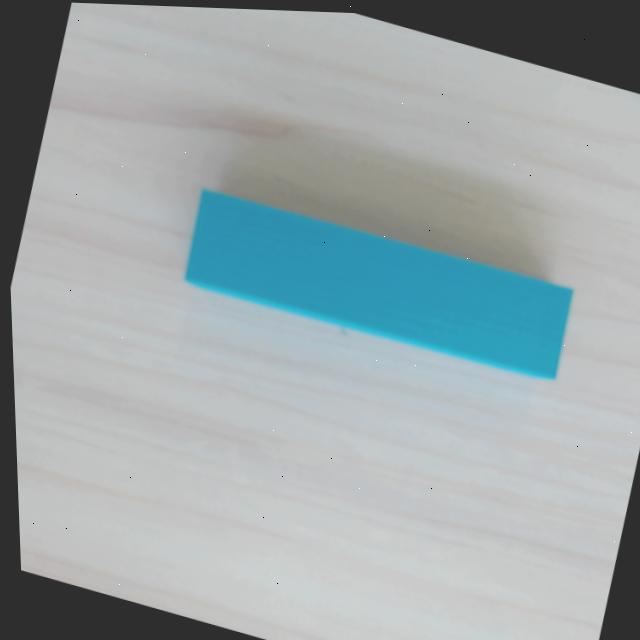Balok-Hijau-1002525: (176, 187, 578, 383)
